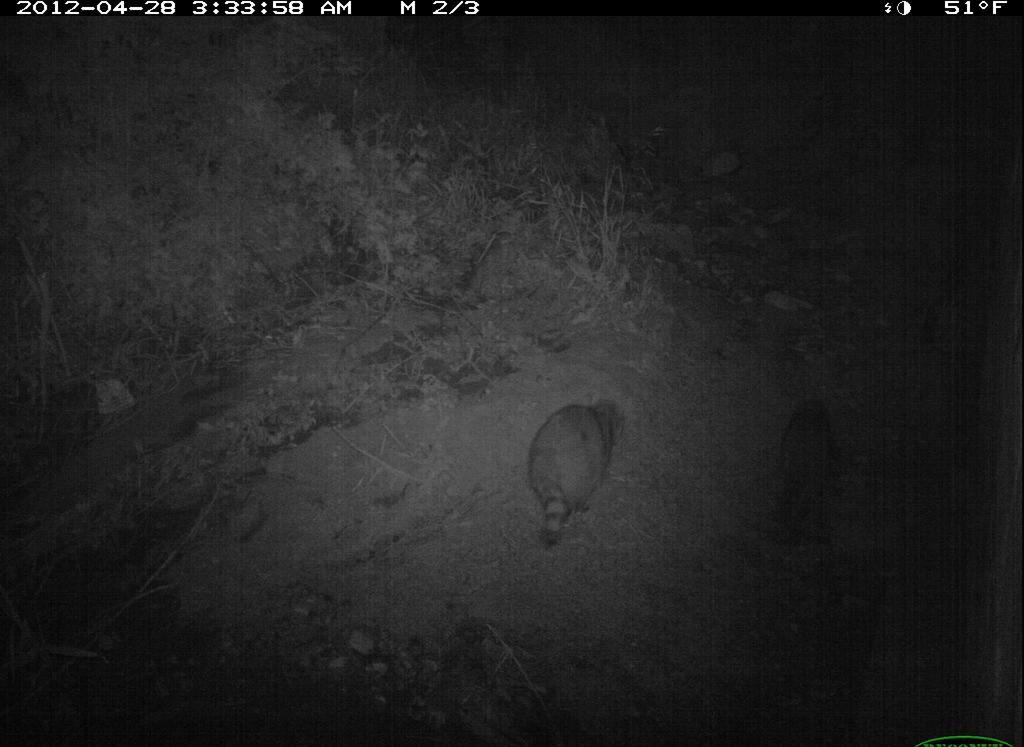raccoon: (514, 383, 647, 561)
